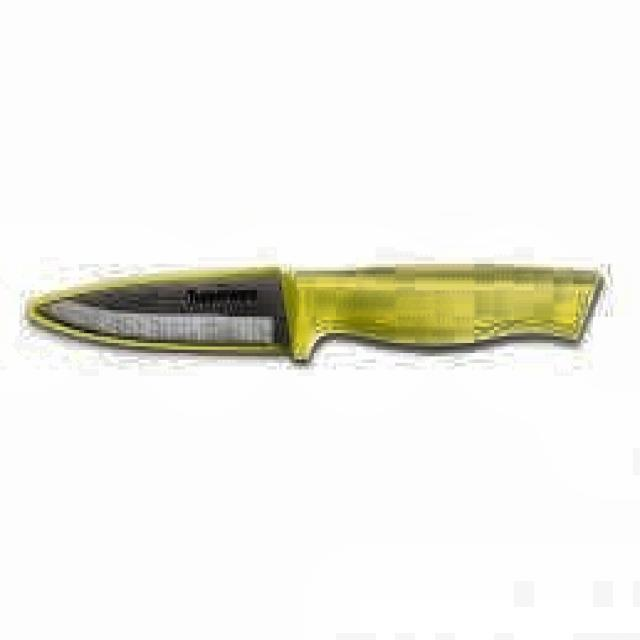knife: (34, 267, 604, 365)
